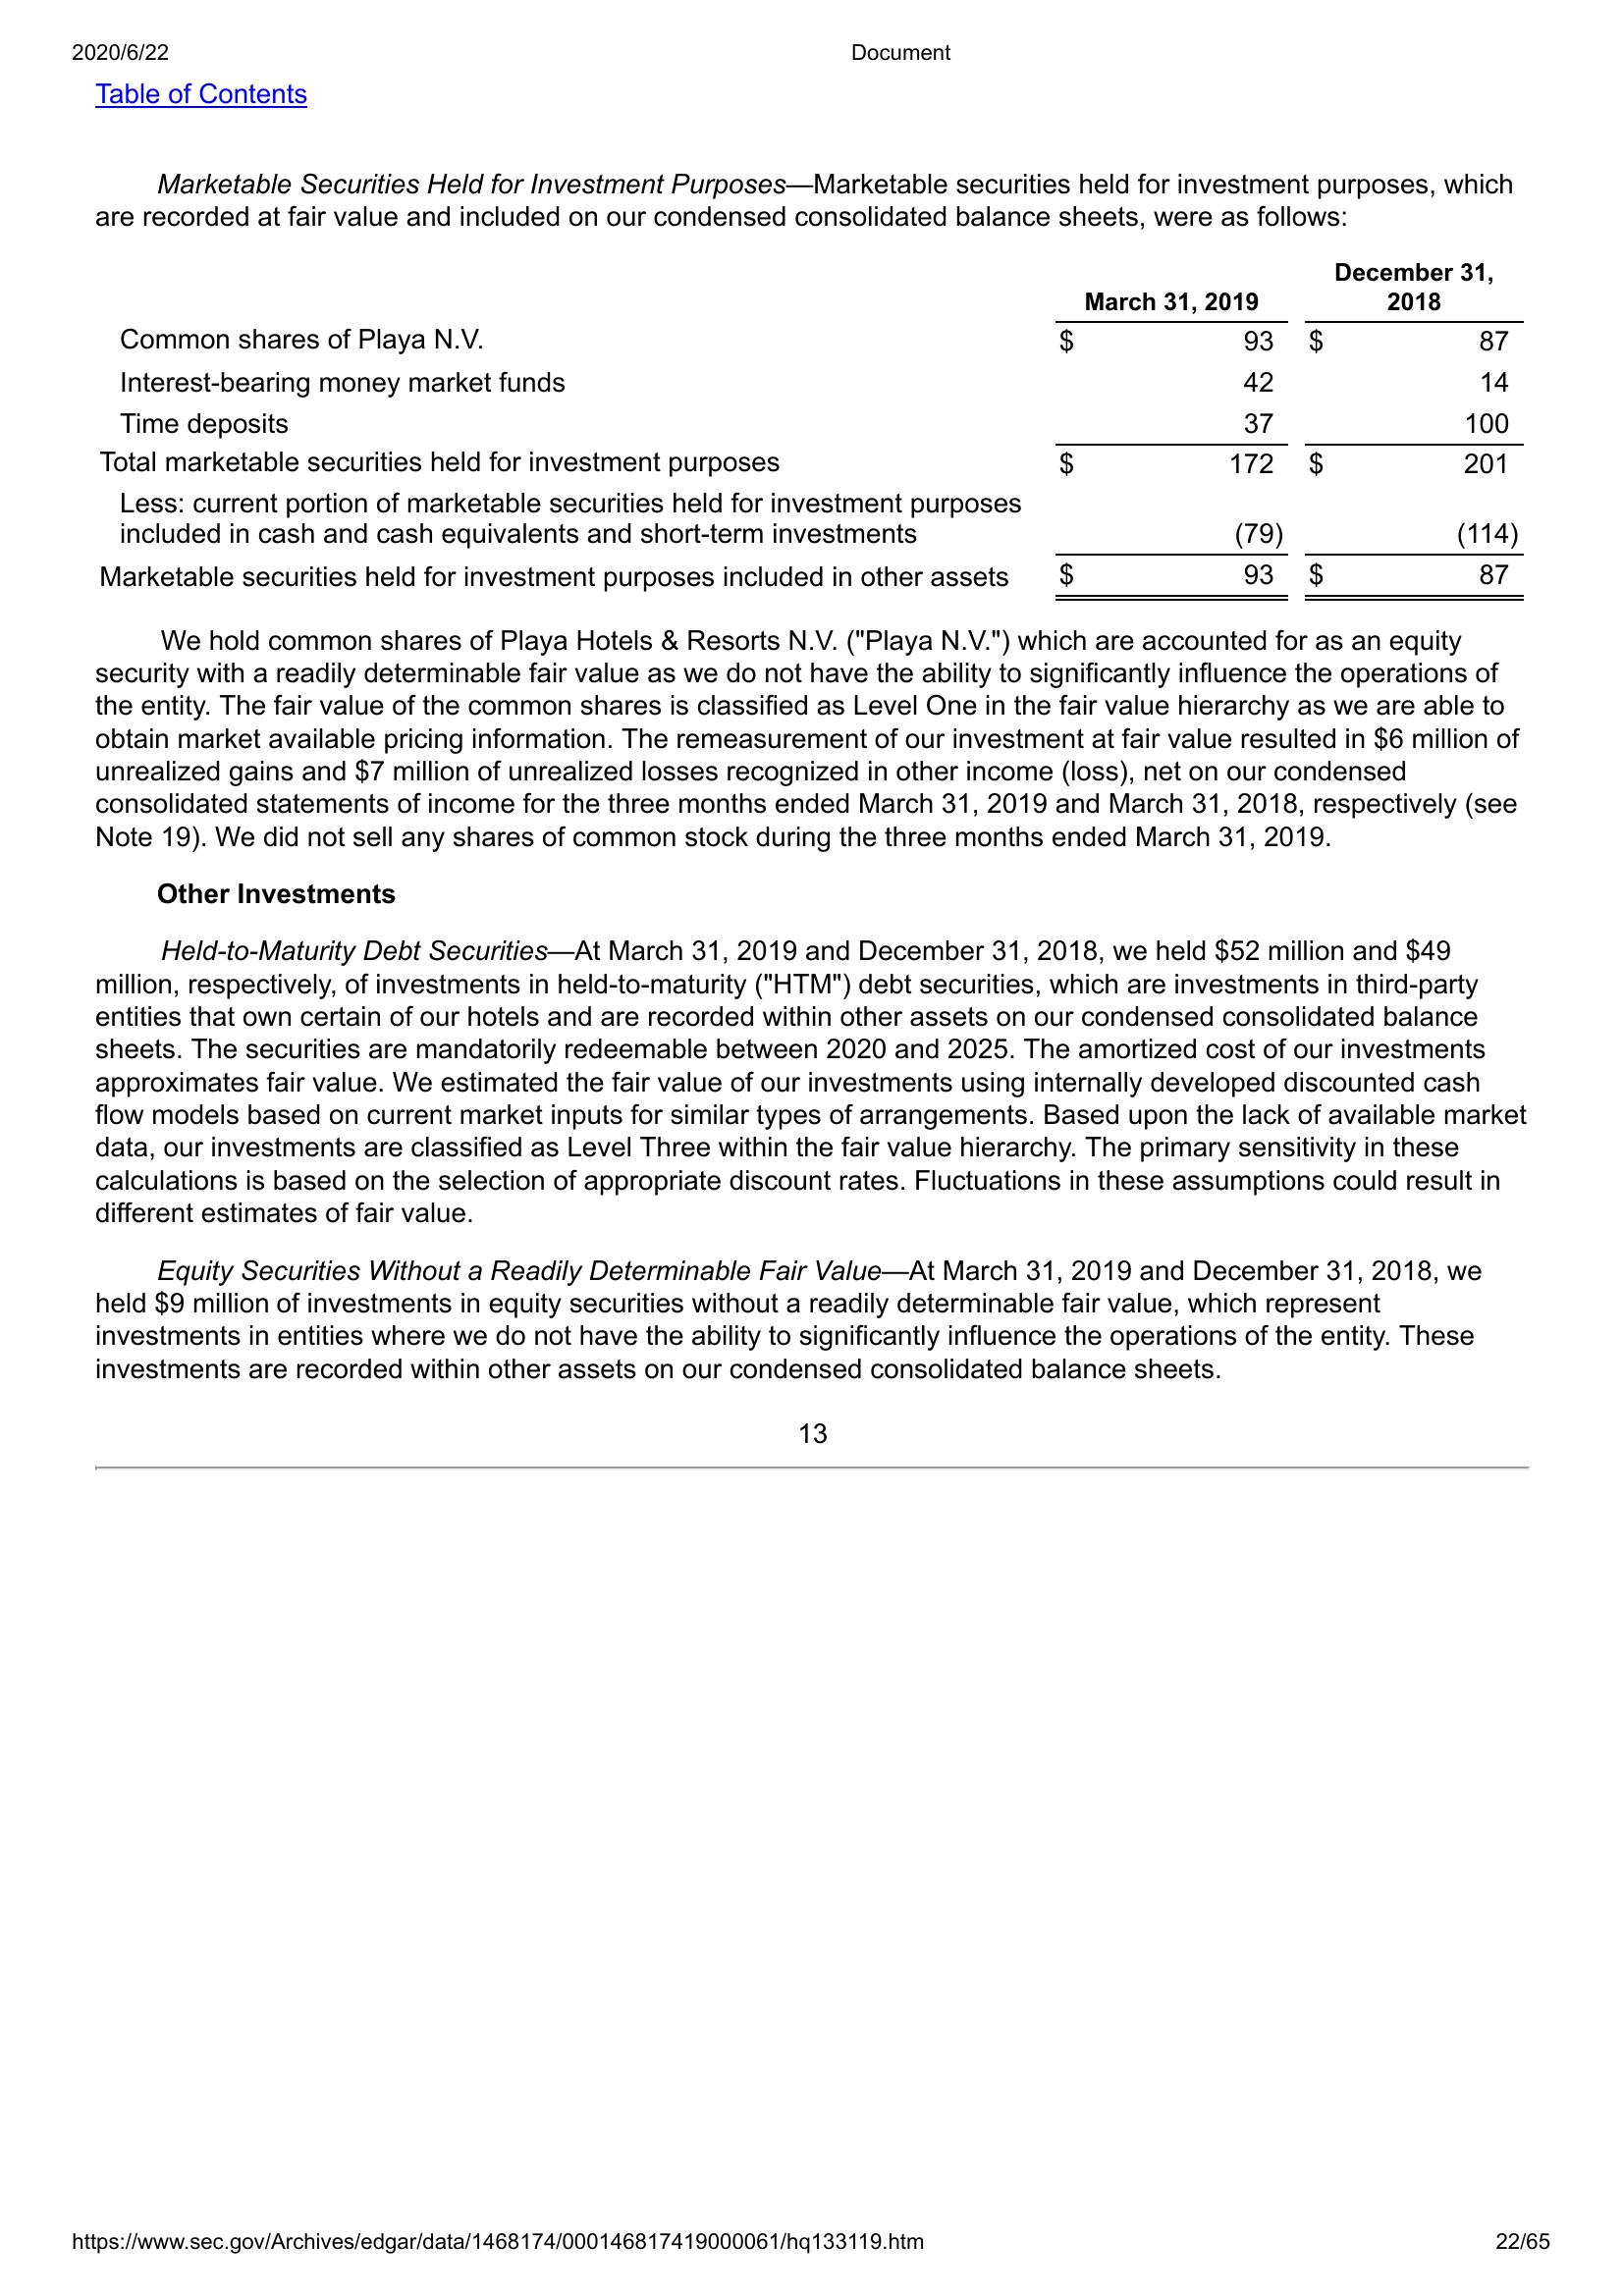table: (84, 249, 1533, 609)
